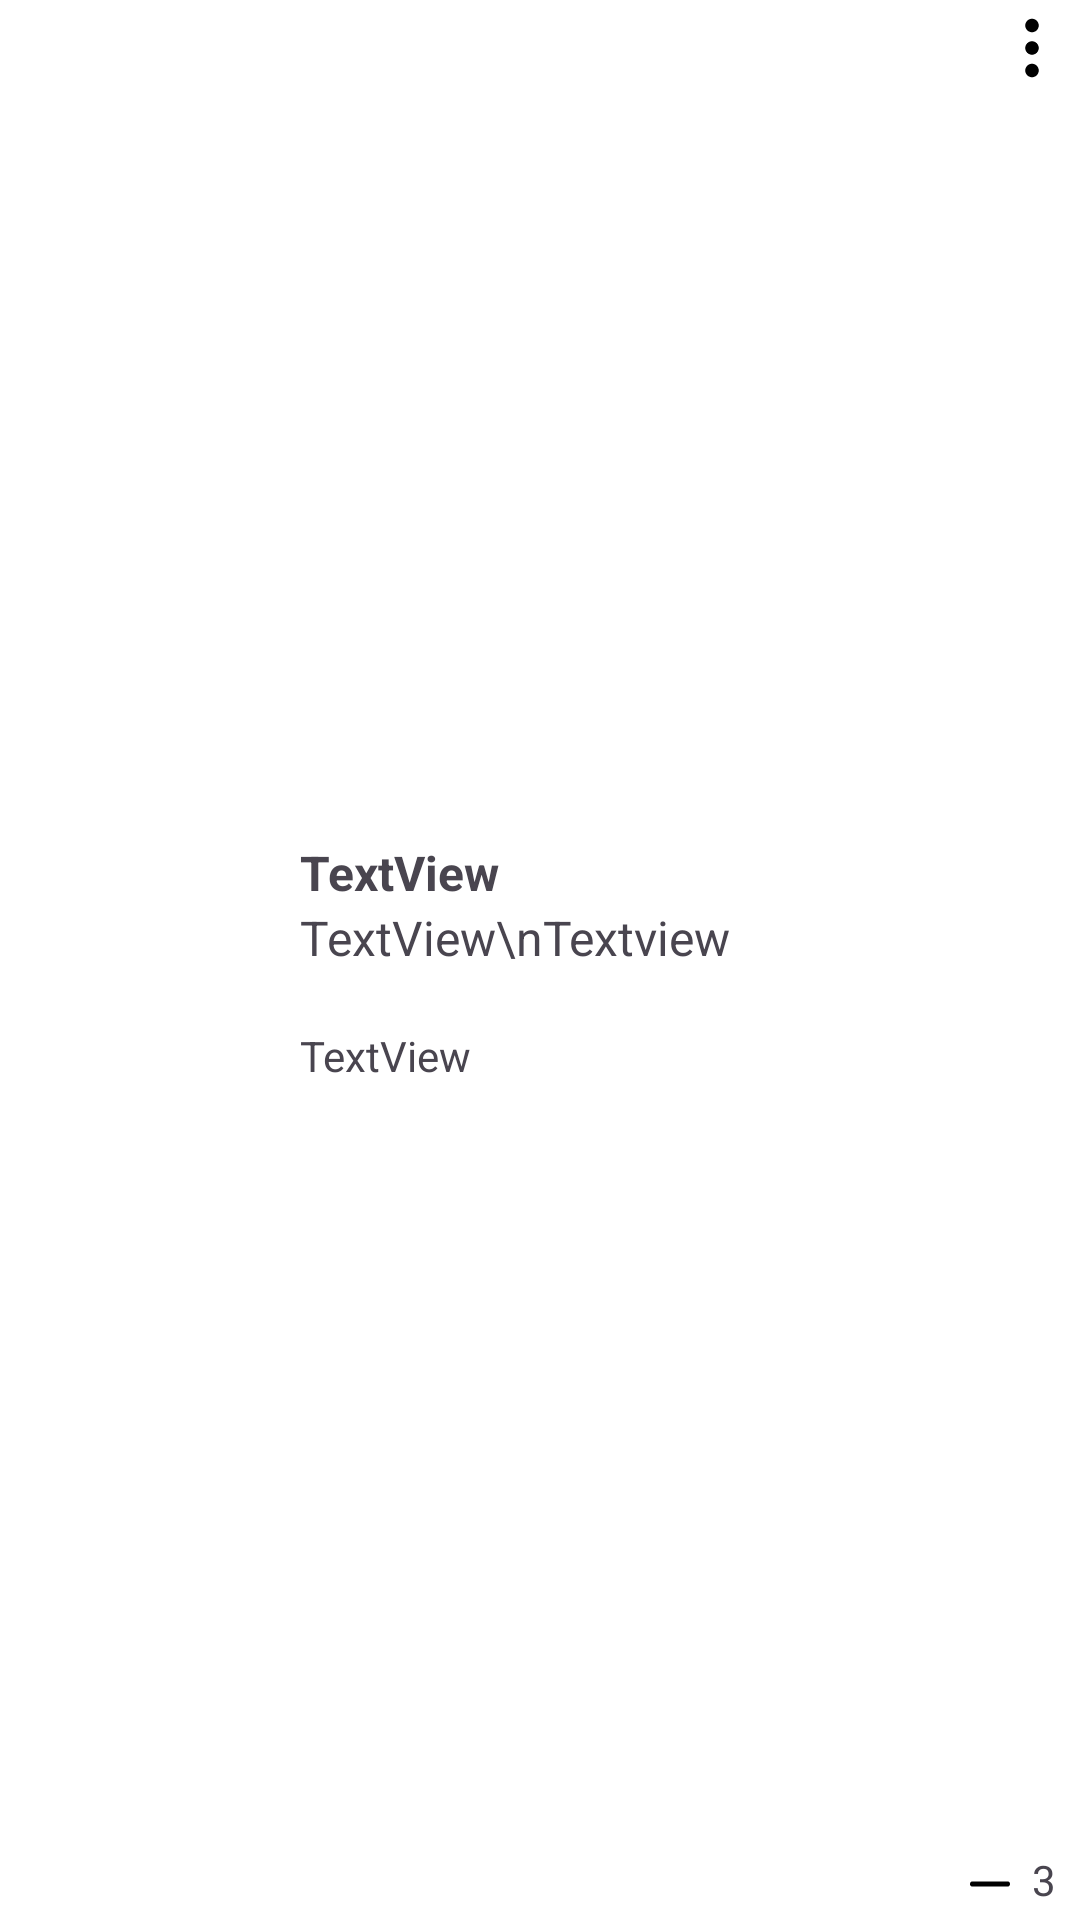

Locate icon controls on the screen. Image size 1080px x 1920px, boxes as Rect(x1, y1, x2, y2).
menu: Rect(1025, 18, 1039, 78)
